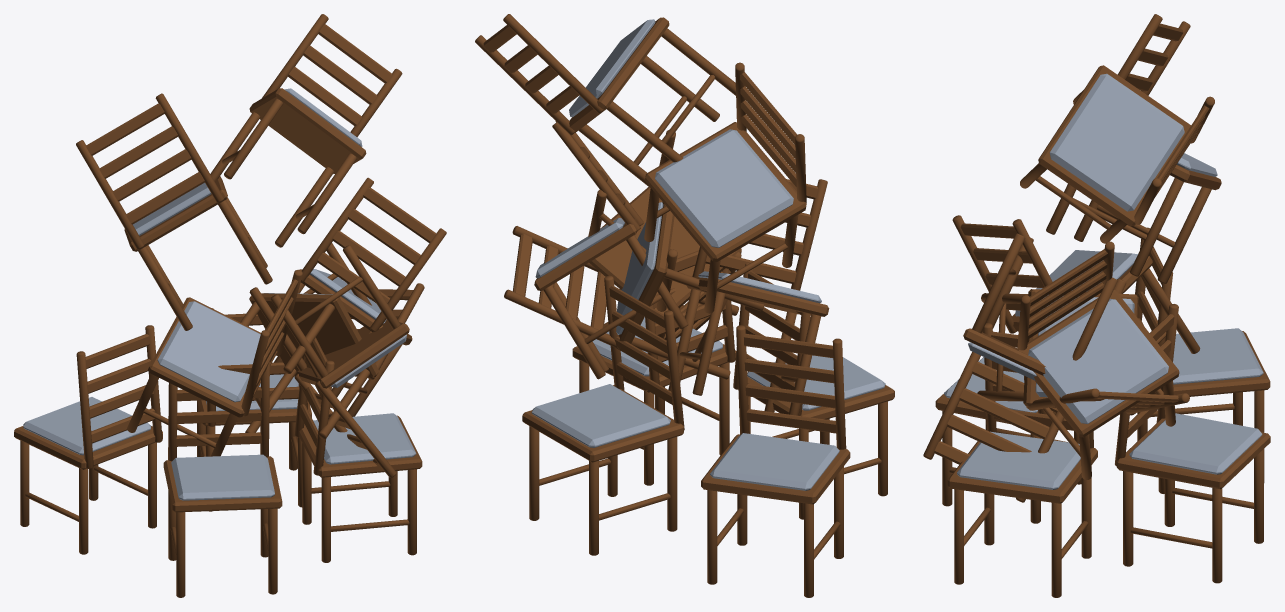
The model's file is prop_wood_chair_pile.obj.
The picture shows the model from 3 angles, left to right: view 1: azimuth 30°, elevation 25°; view 2: azimuth 150°, elevation 25°; view 3: azimuth 270°, elevation 25°; orthographic projection. The views are drawn at different scales.
Parts seen in each view (by area): view 1: Ch4_Cushion, Ch2_Cushion, Ch9_SeatFrame, Ch3_Cushion, Ch6_SeatFrame, Ch0_Cushion, Ch8_SeatFrame, Ch2_SeatFrame, Ch0_SeatFrame, Ch4_SeatFrame, Ch3_SeatFrame, Ch7_SeatFrame (+56 smaller); view 2: Ch7_Cushion, Ch0_Cushion, Ch1_Cushion, Ch7_SeatFrame, Ch8_SeatFrame, Ch1_SeatFrame, Ch0_SeatFrame, Ch2_Cushion, Ch9_SeatFrame, Ch4_SeatFrame, Ch9_Cushion, Ch6_Cushion (+57 smaller); view 3: Ch9_Cushion, Ch5_Cushion, Ch1_Cushion, Ch3_Cushion, Ch0_Cushion, Ch5_SeatFrame, Ch9_SeatFrame, Ch1_SeatFrame, Ch3_SeatFrame, Ch0_SeatFrame, Ch8_Slat_1, Ch8_SeatFrame (+48 smaller).
Part boxes in pixels (<box>): Ch4_Cushion: <box>157,301,260,402</box>; Ch2_Cushion: <box>171,454,274,500</box>; Ch9_SeatFrame: <box>249,88,366,173</box>; Ch3_Cushion: <box>313,413,416,464</box>; Ch6_SeatFrame: <box>249,293,378,376</box>; Ch0_Cushion: <box>23,397,151,455</box>; Ch8_SeatFrame: <box>296,320,409,388</box>; Ch2_SeatFrame: <box>163,456,282,512</box>; Ch0_SeatFrame: <box>14,426,162,469</box>; Ch4_SeatFrame: <box>148,297,277,417</box>; Ch3_SeatFrame: <box>299,415,422,477</box>; Ch7_SeatFrame: <box>124,176,227,251</box>; Ch7_Cushion: <box>655,129,793,247</box>; Ch0_Cushion: <box>710,433,839,490</box>; Ch1_Cushion: <box>531,384,670,447</box>; Ch7_SeatFrame: <box>645,122,806,261</box>; Ch8_SeatFrame: <box>589,187,741,314</box>; Ch1_SeatFrame: <box>522,385,683,462</box>; Ch0_SeatFrame: <box>701,434,850,504</box>; Ch2_Cushion: <box>747,355,885,410</box>; Ch9_SeatFrame: <box>569,17,669,132</box>; Ch4_SeatFrame: <box>686,276,829,316</box>; Ch9_Cushion: <box>569,19,655,116</box>; Ch6_Cushion: <box>616,202,663,334</box>; Ch9_Cushion: <box>1049,73,1184,211</box>; Ch5_Cushion: <box>1028,298,1168,423</box>; Ch1_Cushion: <box>1129,413,1262,474</box>; Ch3_Cushion: <box>957,431,1080,489</box>; Ch0_Cushion: <box>1173,328,1263,384</box>; Ch5_SeatFrame: <box>1017,290,1179,437</box>; Ch9_SeatFrame: <box>1038,65,1190,226</box>; Ch1_SeatFrame: <box>1116,418,1270,489</box>; Ch3_SeatFrame: <box>947,441,1097,503</box>; Ch0_SeatFrame: <box>1155,331,1270,396</box>; Ch8_Slat_1: <box>959,388,1049,439</box>; Ch8_SeatFrame: <box>963,328,1045,375</box>.
Size of the model in its own units: 1.83 by 2.26 by 1.42.
